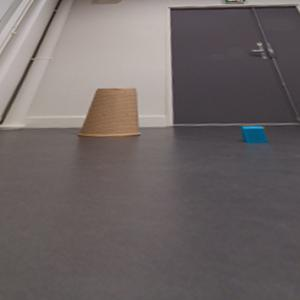medium: (77, 87, 145, 138)
small: (240, 124, 269, 144)
